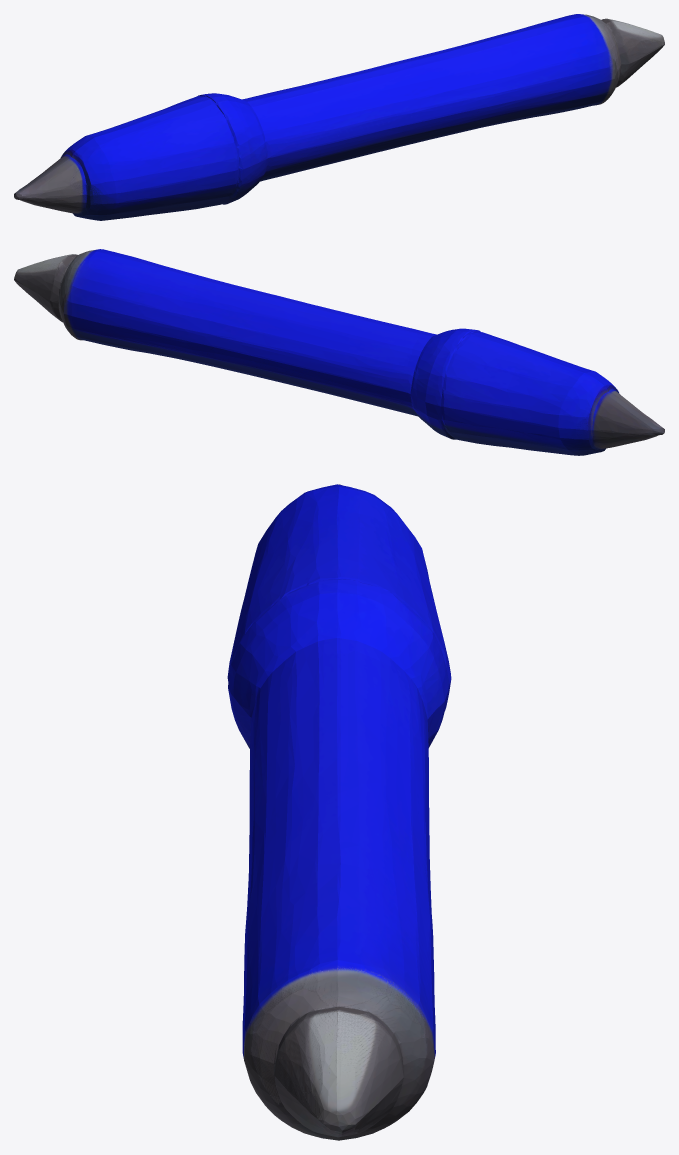
3 views of the same model, one above another, from view 1: azimuth 30°, elevation 25°; view 2: azimuth 150°, elevation 25°; view 3: azimuth 270°, elevation 25° (orthographic). The views are drawn at different scales.
Parts seen in each view (by area): view 1: pen_25.obj; view 2: pen_25.obj; view 3: pen_25.obj.
Boxes of the visible parts, box(x1,y1,x2,y2) form: pen_25.obj: box(14, 14, 664, 220); pen_25.obj: box(14, 249, 664, 455); pen_25.obj: box(227, 484, 451, 1140).
Size of the model in its own units: 0.14 by 0.0216 by 0.0209.
Materials: 1 (1 with a texture image).
